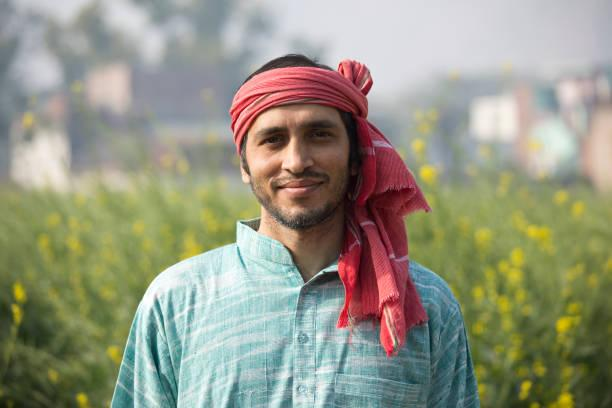Human: (125, 39, 465, 408)
